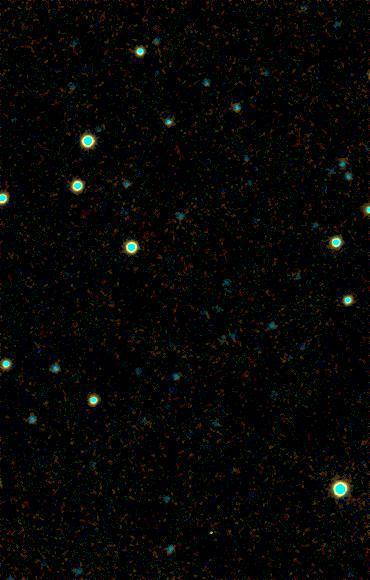star: (197, 519, 227, 549)
